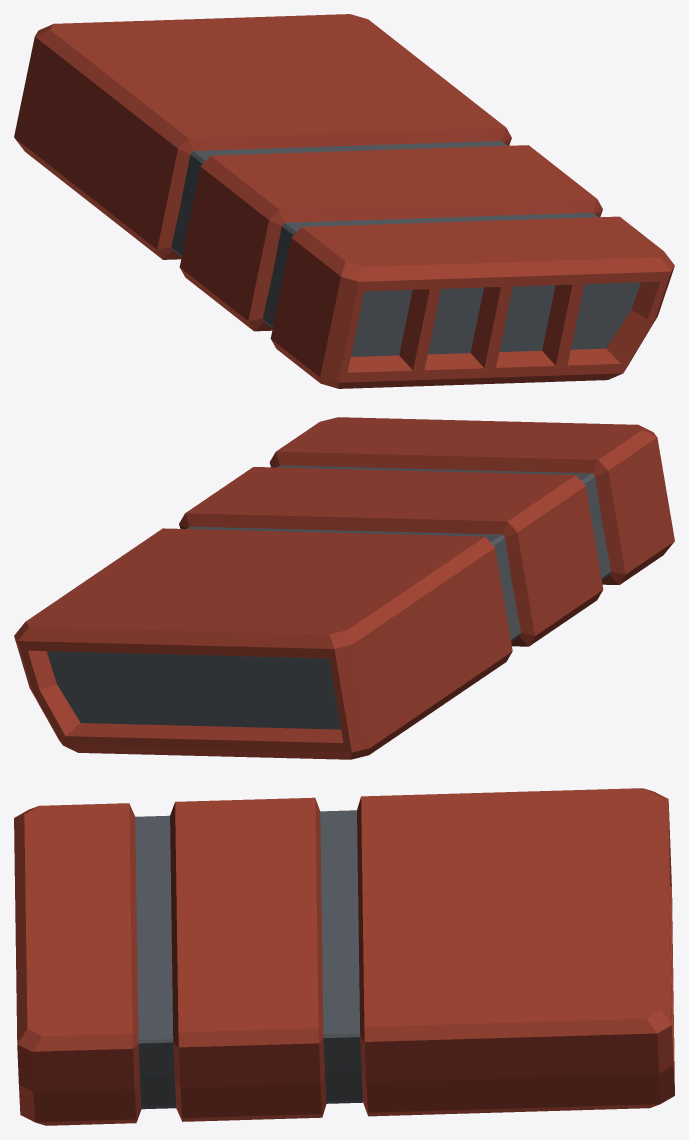
The model's file is Dropship_01_Artillery_Right_Red.fbx.
The picture shows the model from 3 angles, top to bottom: view 1: azimuth 30°, elevation 25°; view 2: azimuth 150°, elevation 25°; view 3: azimuth 270°, elevation 25°; orthographic projection. The views are drawn at different scales.
Visible parts, largest first — view 1: Dropship_01_Artillery_Right_Red; view 2: Dropship_01_Artillery_Right_Red; view 3: Dropship_01_Artillery_Right_Red.
Part boxes in pixels (box(x1,y1,x2,y2)): Dropship_01_Artillery_Right_Red: box(14, 14, 674, 388); Dropship_01_Artillery_Right_Red: box(14, 417, 674, 759); Dropship_01_Artillery_Right_Red: box(14, 788, 674, 1125).
Size of the model in its own units: 362 by 192 by 568.
Materials: 1 (1 with a texture image).
